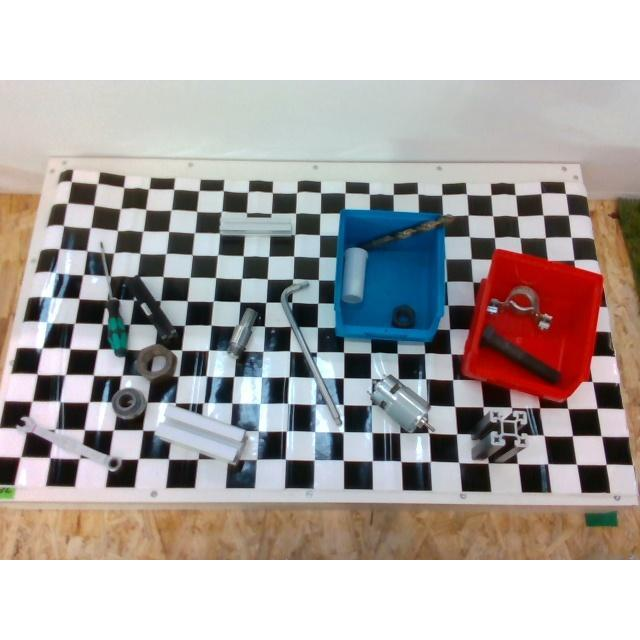AllenKey: (280, 280, 340, 428)
Axis2: (227, 308, 257, 358)
Bearing2: (110, 388, 146, 419)
Drill: (361, 214, 455, 250)
F20_20_B: (121, 274, 175, 342)
F20_20_G: (219, 217, 293, 236)
Housing: (486, 286, 554, 330)
M20: (392, 304, 416, 328)
M20_100: (480, 324, 560, 384)
M30: (136, 344, 176, 380)
Motor2: (371, 374, 434, 432)
S40_40_B: (471, 410, 527, 462)
S40_40_G: (155, 406, 247, 462)
Screwdriver: (97, 244, 127, 356)
Spacer: (341, 247, 367, 303)
Wrench: (17, 416, 121, 472)
container_box_blue: (334, 209, 448, 341)
container_box_red: (462, 248, 602, 399)
